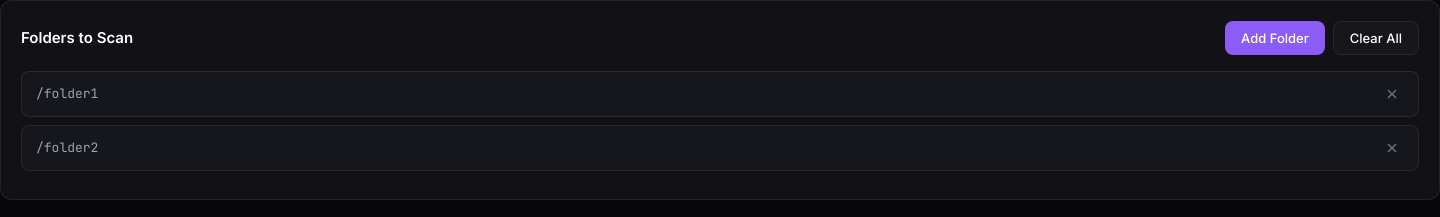
Test: FolderSelector › should remove folder when remove button is clicked
expect the text "/folder1" is shown: met, box x1=36 y1=85 x2=98 y2=102
Click the button titled "Remove folder" in the row of "/folder1": (1392, 94) x1=1380 y1=82 x2=1404 y2=106
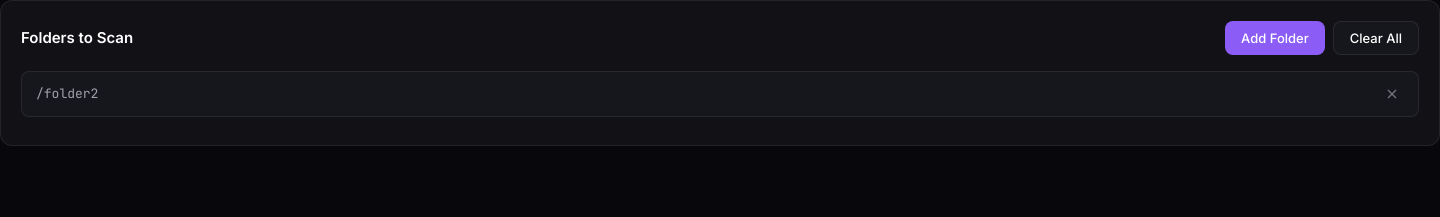
expect the text "/folder1" is gone: met
expect the text "/folder2" is shown: met, box x1=36 y1=85 x2=98 y2=102
